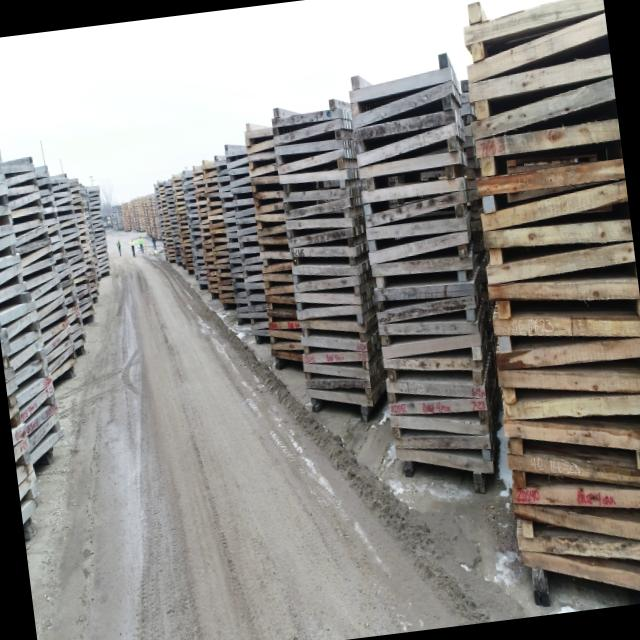stack: (343, 56, 504, 507), (264, 92, 384, 422)
